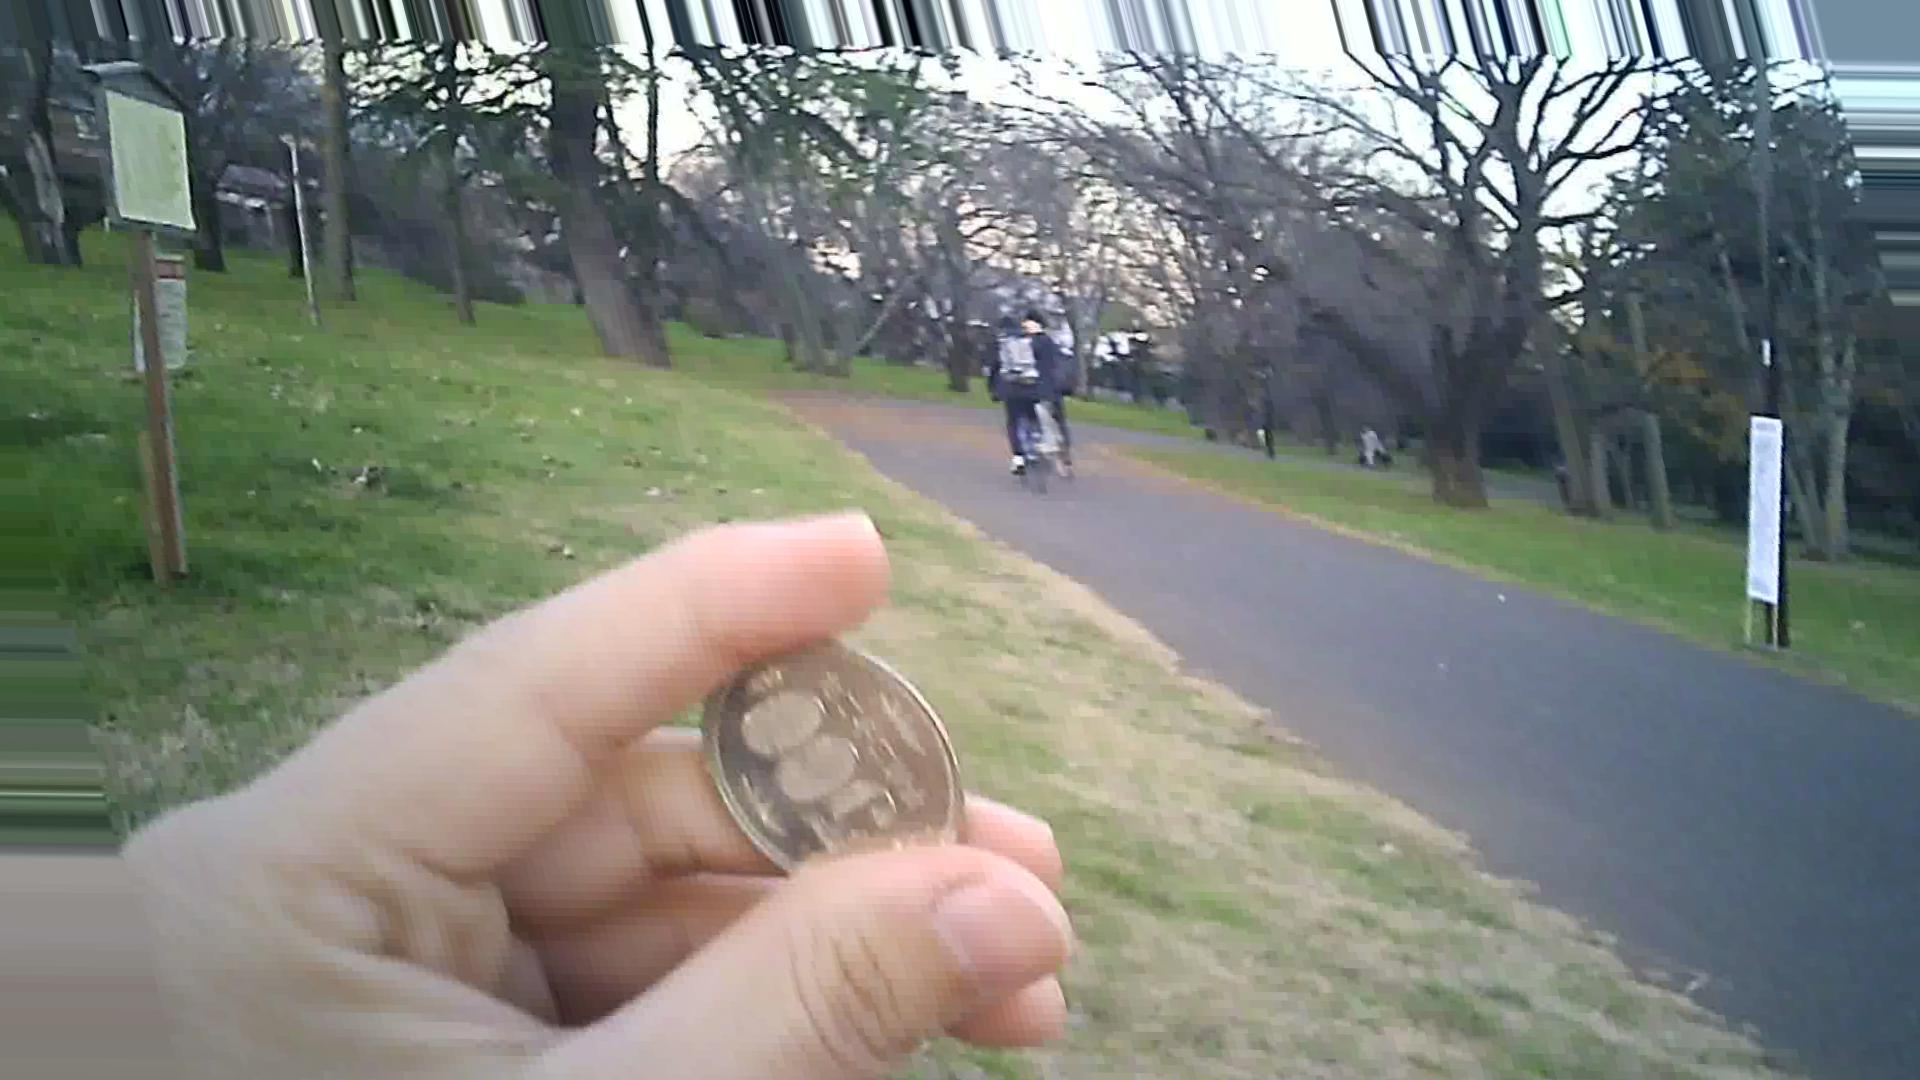500 Yen: (692, 630, 978, 873)
